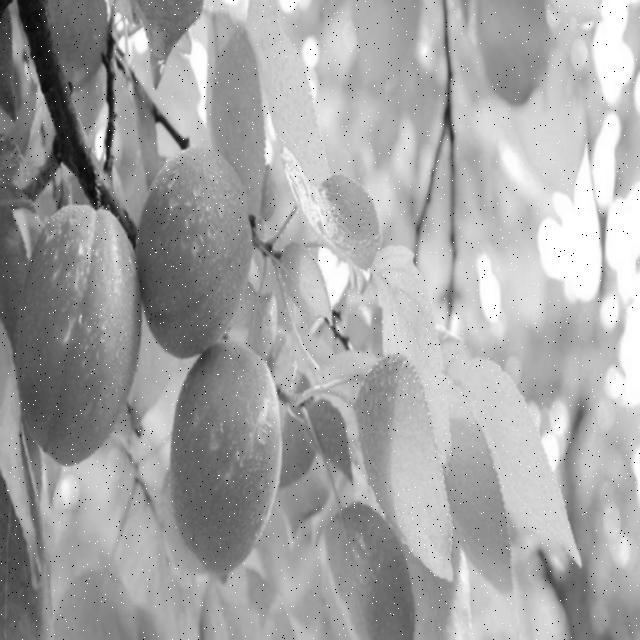Kayisi: (19, 212, 141, 472), (172, 342, 280, 571), (139, 149, 252, 346)
Kayisi Yapragi: (437, 330, 581, 566), (354, 362, 453, 582), (379, 257, 450, 468), (283, 145, 379, 272)
